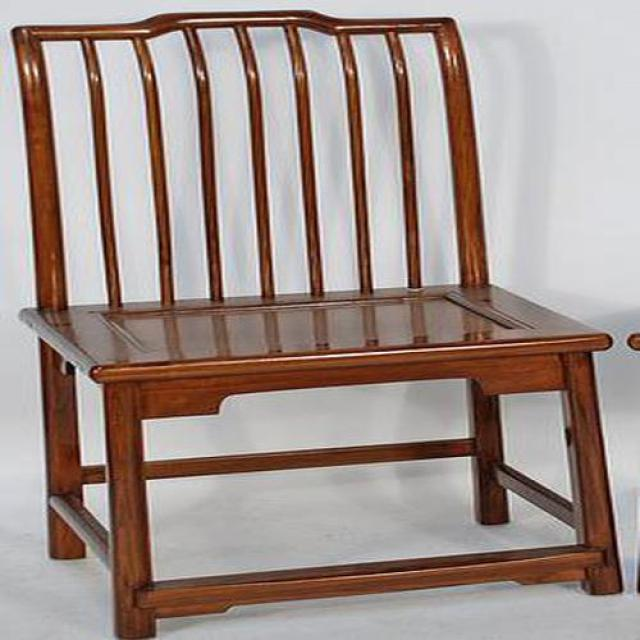chair: (9, 10, 626, 640)
